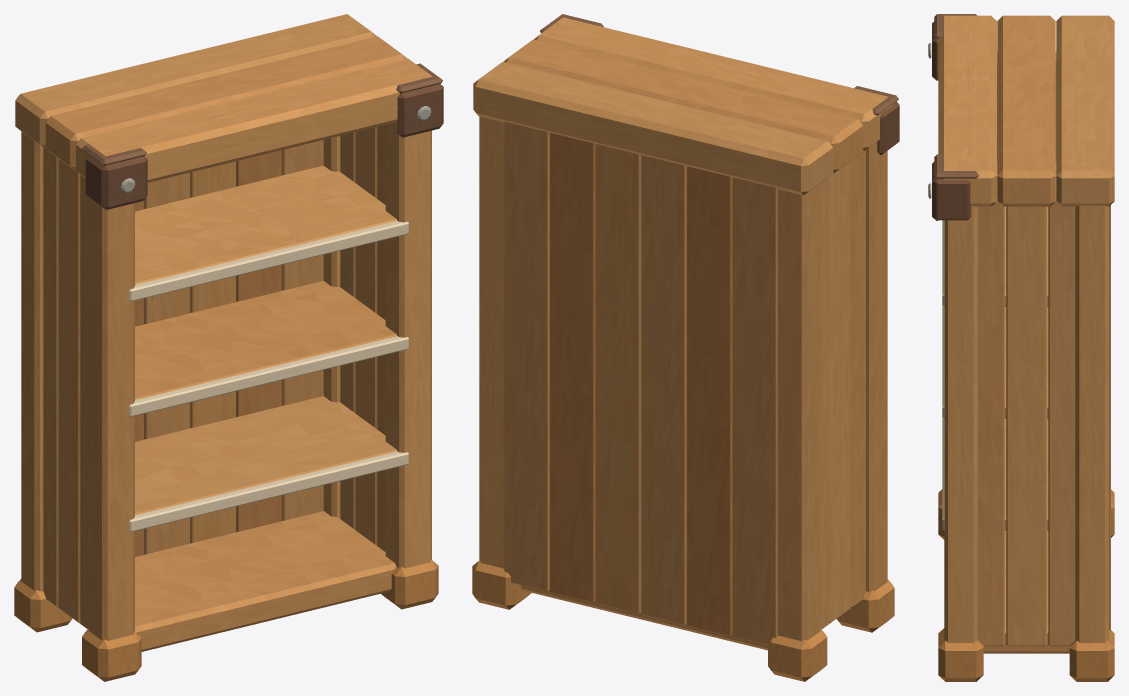
The model's file is 03_DisplayCabinet.fbx.
The picture shows the model from 3 angles, left to right: view 1: azimuth 30°, elevation 25°; view 2: azimuth 150°, elevation 25°; view 3: azimuth 270°, elevation 25°; orthographic projection. The views are drawn at different scales.
Parts seen in each view (by area): view 1: 03_DisplayCabinet; view 2: 03_DisplayCabinet; view 3: 03_DisplayCabinet.
Part boxes in pixels (<box>): 03_DisplayCabinet: <box>14,14,443,681</box>; 03_DisplayCabinet: <box>472,14,899,681</box>; 03_DisplayCabinet: <box>928,14,1114,681</box>.
Bounding box in the file's own units: 230 × 338 × 112.
Materials: 1 (1 with a texture image).
